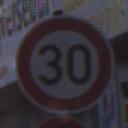speed_limit_30: (14, 16, 117, 112)
